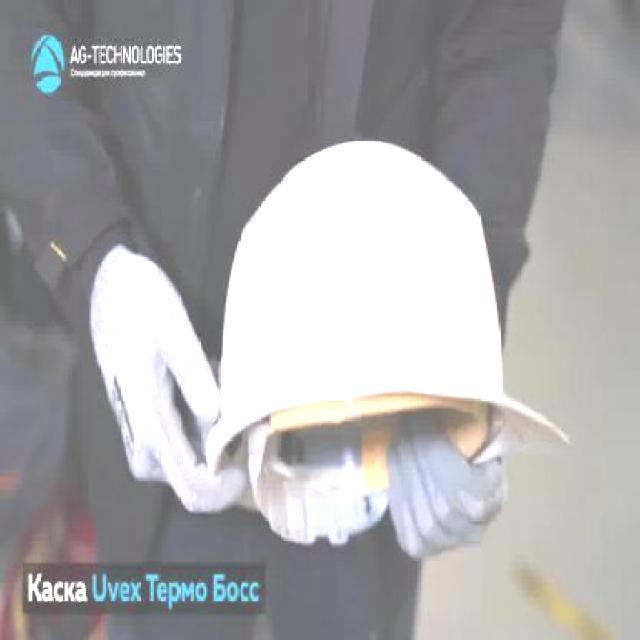Gloves: (87, 233, 250, 518), (385, 408, 513, 566)
Helmet: (205, 134, 572, 548)
